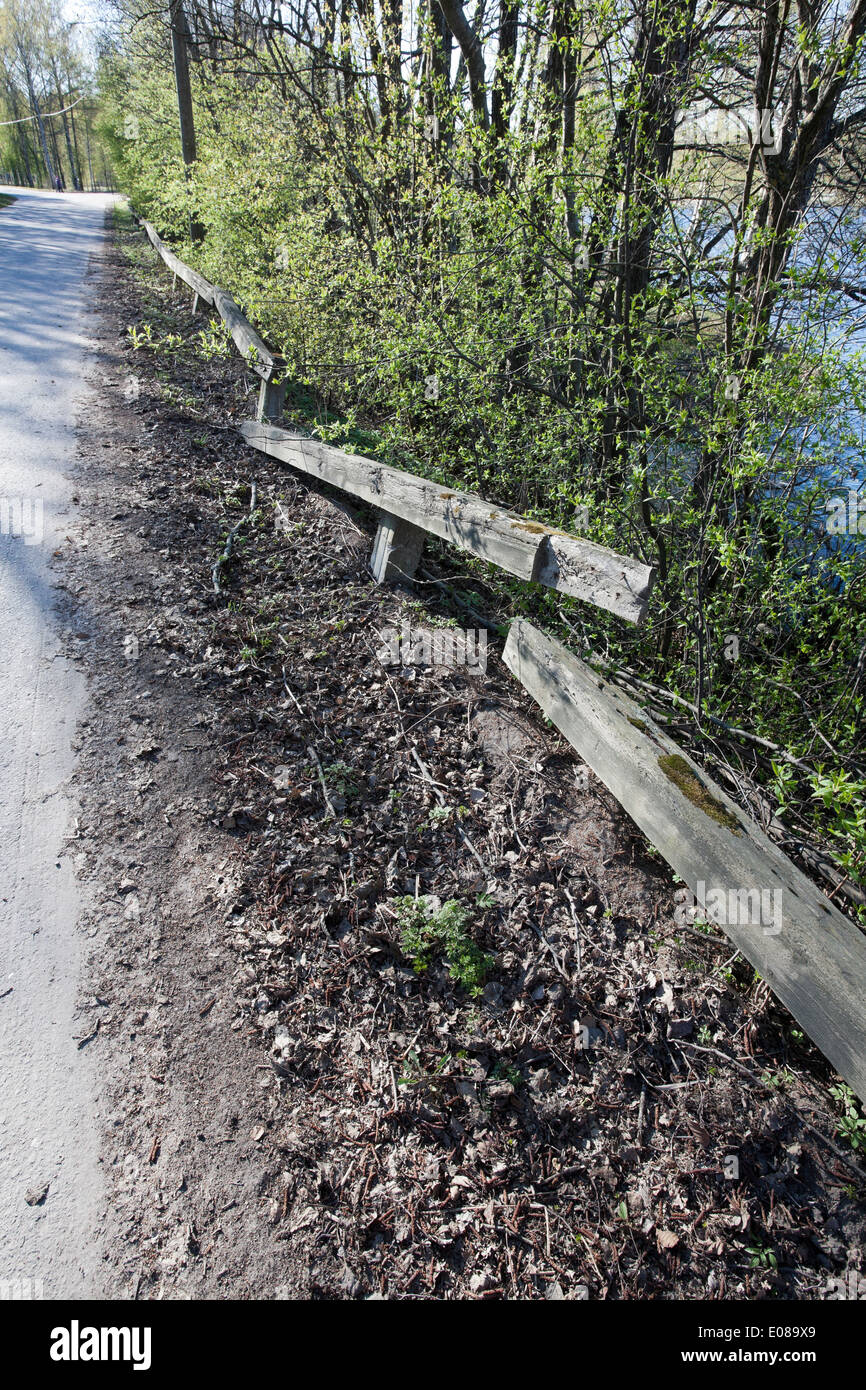damaged: (258, 407, 662, 685)
